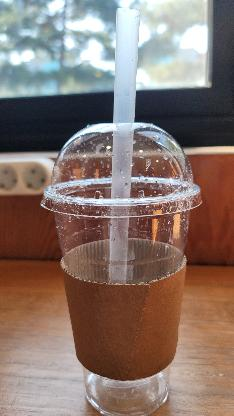Plastic Cup: (38, 121, 204, 416), (39, 124, 204, 219)
